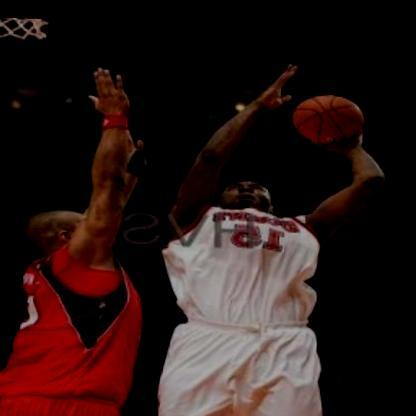basketball: (289, 80, 371, 142)
